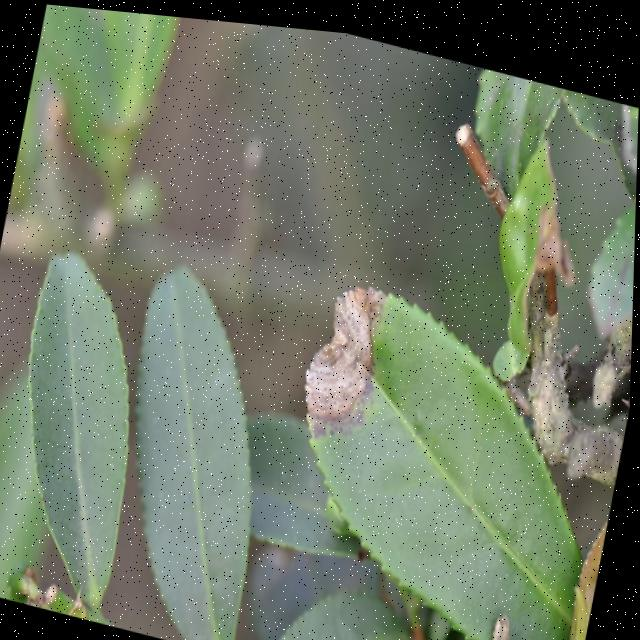Tea cloud leaf blight: (284, 256, 413, 442)
